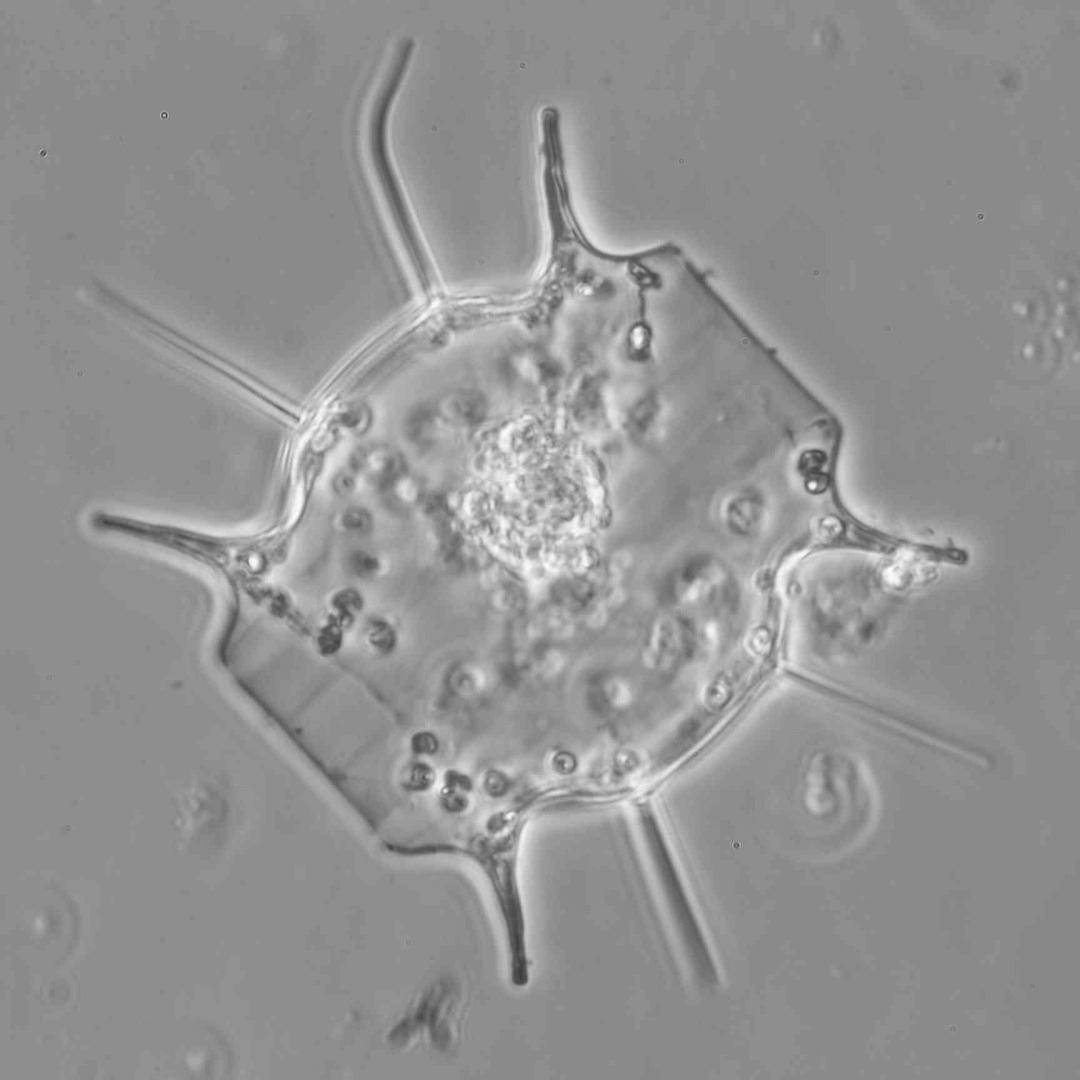odontella_mobiliensis: (80, 42, 1000, 994)
